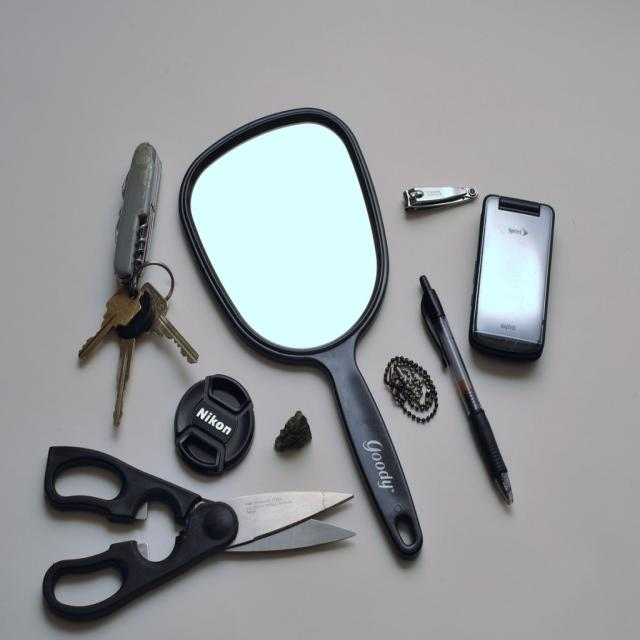scissors: (42, 444, 356, 622)
